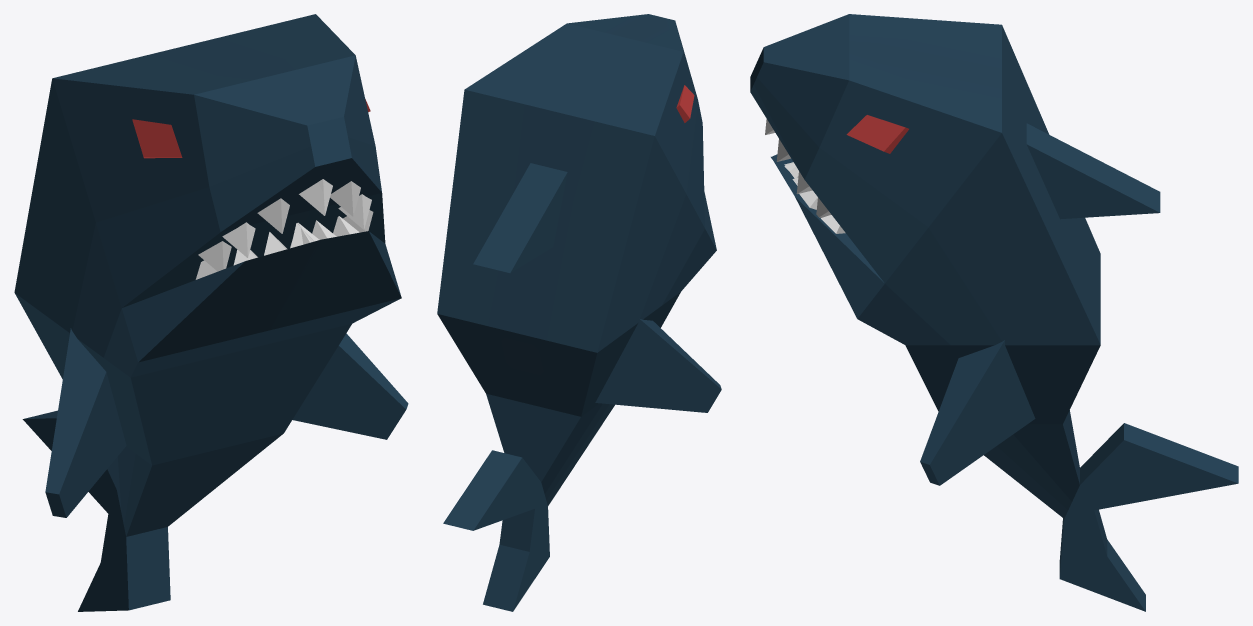
File: shark.fbx
3 views of the same model, side by side, from view 1: azimuth 30°, elevation 25°; view 2: azimuth 150°, elevation 25°; view 3: azimuth 270°, elevation 25° (orthographic). The views are drawn at different scales.
Visible parts, largest first — view 1: Body, Fins, Eye, Cube.004, Cube.005, Cube.006, Cube, Cube.002; view 2: Body, Fins, Eye; view 3: Body, Fins, Eye.
Boxes of the visible parts, x1=… form: Body: x1=14, y1=14, x2=401, y2=611; Fins: x1=45, y1=328, x2=408, y2=517; Eye: x1=132, y1=99, x2=370, y2=158; Cube.004: x1=257, y1=181, x2=360, y2=233; Cube.005: x1=222, y1=194, x2=371, y2=257; Cube.006: x1=198, y1=210, x2=373, y2=271; Cube: x1=299, y1=179, x2=332, y2=215; Cube.002: x1=264, y1=220, x2=336, y2=255; Body: x1=437, y1=14, x2=716, y2=611; Fins: x1=595, y1=318, x2=721, y2=412; Eye: x1=676, y1=85, x2=694, y2=122; Body: x1=750, y1=14, x2=1238, y2=611; Fins: x1=920, y1=340, x2=1035, y2=485; Eye: x1=846, y1=115, x2=908, y2=153.
Size of the model in its own units: 327 by 570 by 453.
